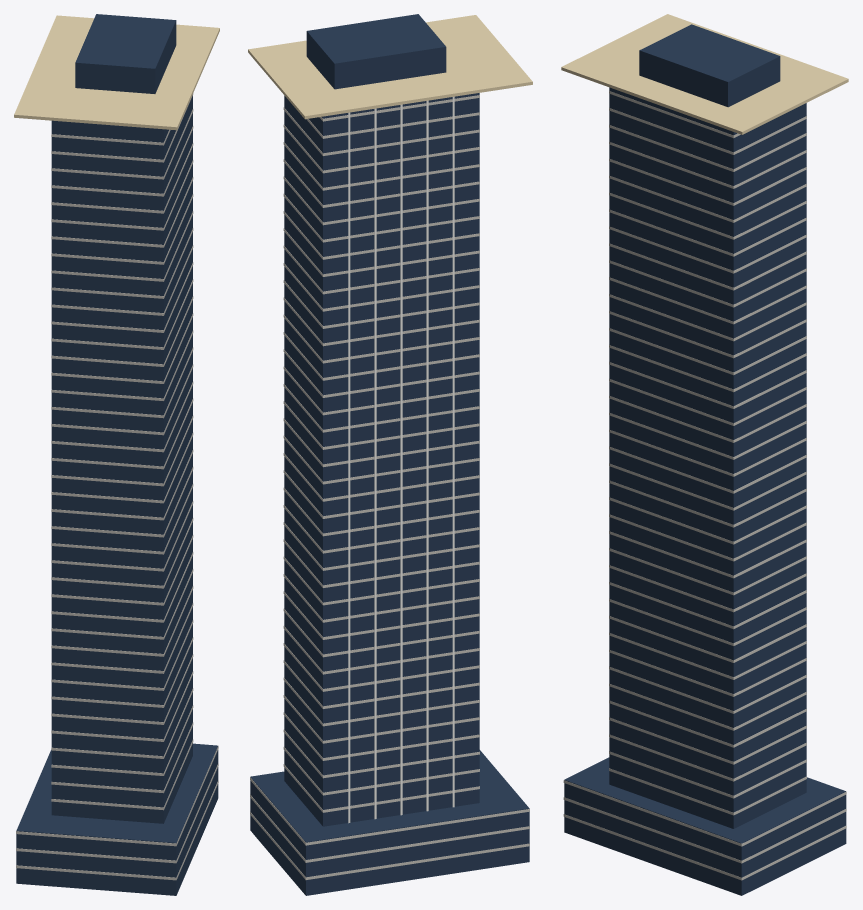
File: executive-tower-m.glb
The picture shows the model from 3 angles, left to right: view 1: azimuth 30°, elevation 25°; view 2: azimuth 150°, elevation 25°; view 3: azimuth 270°, elevation 25°; orthographic projection. The views are drawn at different scales.
Visible parts, largest first — view 1: B_399873549_executive-tower-m, B_399873549_executive-tower-m_gold, band.233, band.232, band.234, band.250, band.266, band.243, band.249, band.271, band.272, band.245 (+32 smaller); view 2: B_399873549_executive-tower-m, B_399873549_executive-tower-m_gold, mullion.021, mullion.020, mullion.022, mullion.023, mullion.024, band.234, band.232, band.233, band.271, band.235 (+38 smaller); view 3: B_399873549_executive-tower-m, B_399873549_executive-tower-m_gold, band.233, band.232, band.234, band.249, band.271, band.264, band.237, band.241, band.251, band.256 (+33 smaller).
Part boxes in pixels (left/top/right/bottom): B_399873549_executive-tower-m: left=16, top=14, right=218, bottom=895; B_399873549_executive-tower-m_gold: left=14, top=15, right=219, bottom=130; band.233: left=16, top=763, right=218, bottom=863; band.232: left=16, top=780, right=218, bottom=880; band.234: left=16, top=746, right=218, bottom=846; band.250: left=51, top=483, right=193, bottom=554; band.266: left=51, top=211, right=193, bottom=281; band.243: left=51, top=603, right=193, bottom=673; band.249: left=51, top=501, right=193, bottom=571; band.271: left=51, top=126, right=193, bottom=196; band.272: left=51, top=109, right=193, bottom=179; band.245: left=51, top=569, right=193, bottom=639; B_399873549_executive-tower-m: left=250, top=14, right=529, bottom=895; B_399873549_executive-tower-m_gold: left=248, top=15, right=532, bottom=119; mullion.021: left=374, top=108, right=376, bottom=819; mullion.020: left=348, top=112, right=350, bottom=823; mullion.022: left=400, top=104, right=402, bottom=815; mullion.023: left=426, top=100, right=428, bottom=811; mullion.024: left=452, top=96, right=454, bottom=807; band.234: left=250, top=777, right=529, bottom=845; band.232: left=250, top=812, right=529, bottom=879; band.233: left=250, top=794, right=529, bottom=862; band.271: left=283, top=142, right=479, bottom=190; band.235: left=283, top=764, right=479, bottom=812; B_399873549_executive-tower-m: left=564, top=24, right=846, bottom=895; B_399873549_executive-tower-m_gold: left=561, top=14, right=848, bottom=134; band.233: left=563, top=797, right=846, bottom=863; band.232: left=563, top=814, right=846, bottom=880; band.234: left=563, top=780, right=846, bottom=846; band.249: left=609, top=531, right=806, bottom=578; band.271: left=609, top=158, right=806, bottom=205; band.264: left=609, top=277, right=806, bottom=324; band.237: left=609, top=734, right=806, bottom=781; band.241: left=609, top=666, right=806, bottom=713; band.251: left=609, top=497, right=806, bottom=544; band.256: left=609, top=412, right=806, bottom=459.
Size of the model in its own units: 67.24 by 210 by 69.27.
